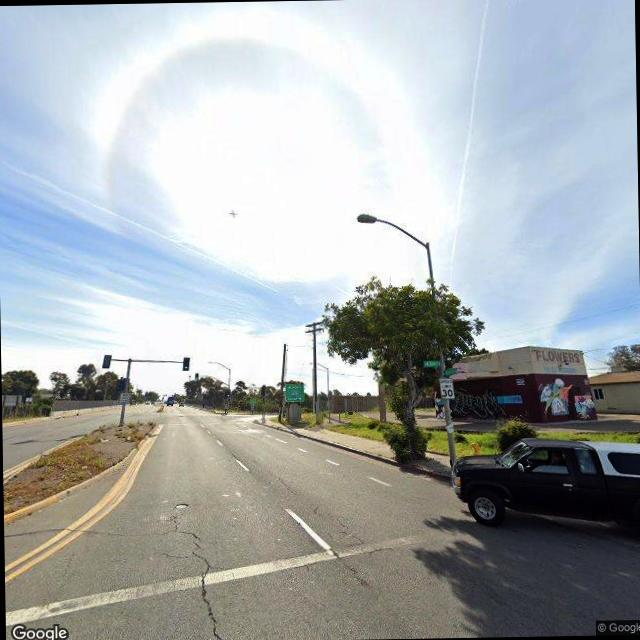crack: (175, 524, 230, 640), (307, 503, 361, 542), (272, 470, 296, 492)
pothole: (170, 498, 190, 510)
